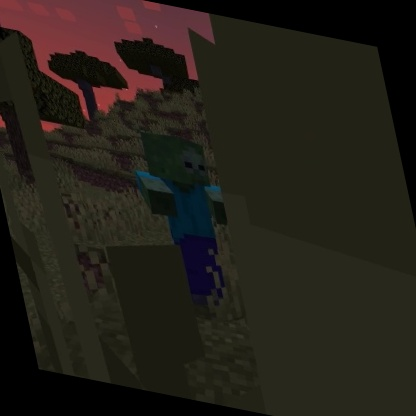zombie: (120, 123, 251, 320)
